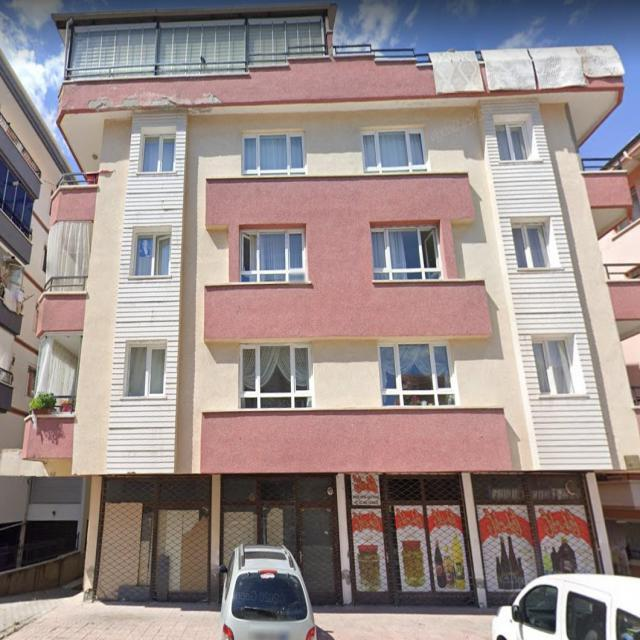Building: (23, 5, 640, 608)
